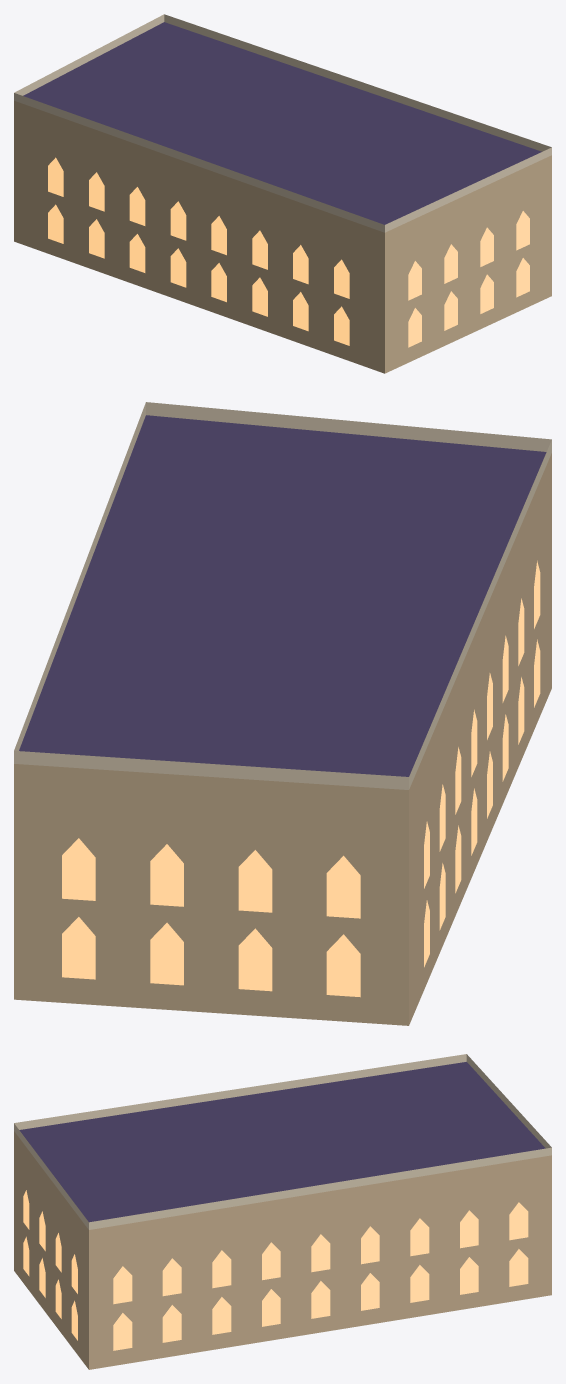
3 renders of one model, top to bottom at view 1: azimuth 30°, elevation 25°; view 2: azimuth 150°, elevation 25°; view 3: azimuth 270°, elevation 25°, orthographic. The views are drawn at different scales.
Parts seen in each view (by area): view 1: campus/b-034-0; view 2: campus/b-034-0; view 3: campus/b-034-0.
Boxes of the visible parts, x1,y1,x2,y2 form: campus/b-034-0: (14,14,551,373); campus/b-034-0: (14,402,551,1025); campus/b-034-0: (14,1054,551,1369).
Size of the model in its own units: 25.55 by 10.45 by 34.51.
